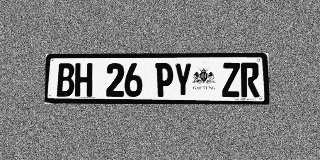2: (106, 63, 124, 97)
6: (124, 63, 142, 97)
B: (57, 63, 75, 97)
H: (75, 63, 93, 97)
P: (155, 63, 173, 97)
R: (241, 63, 260, 97)
Y: (174, 63, 192, 97)
Z: (222, 63, 240, 97)
